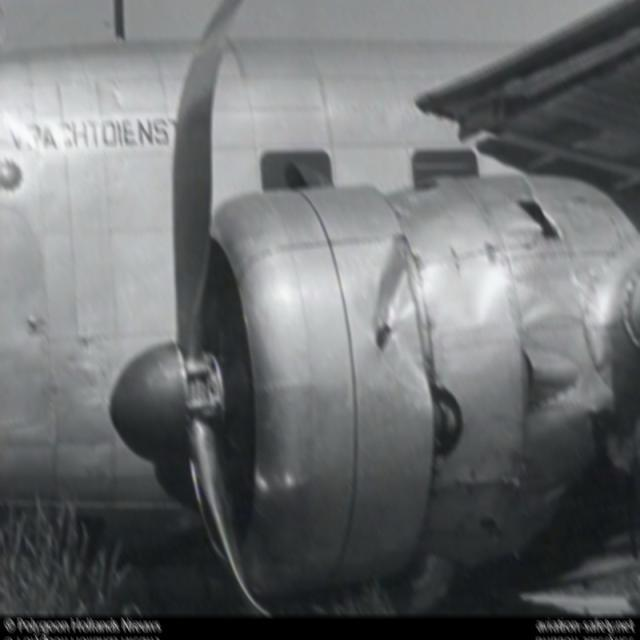dent: (365, 252, 418, 339)
